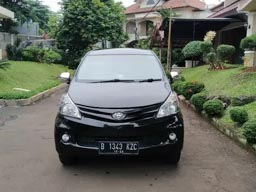plat: (97, 139, 141, 151)
